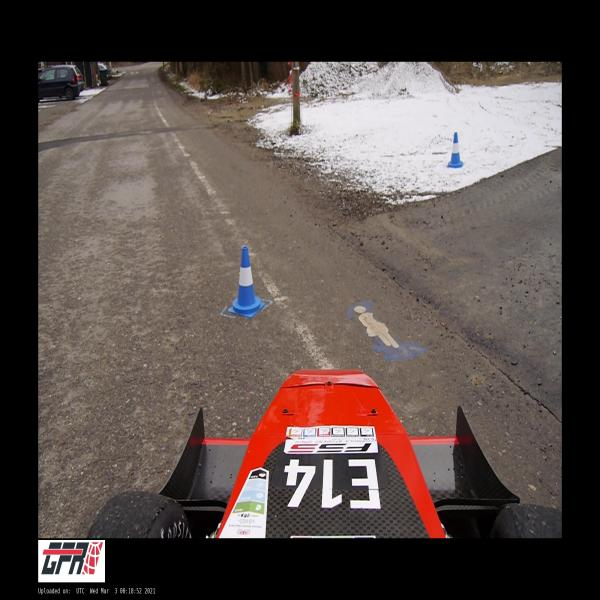blue_cone: (229, 246, 265, 317), (448, 132, 464, 168)
